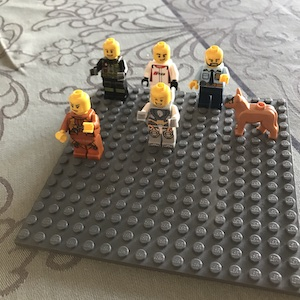Lego: (58, 90, 103, 161), (136, 84, 181, 148), (190, 44, 231, 109), (140, 41, 181, 104), (95, 37, 128, 103)
